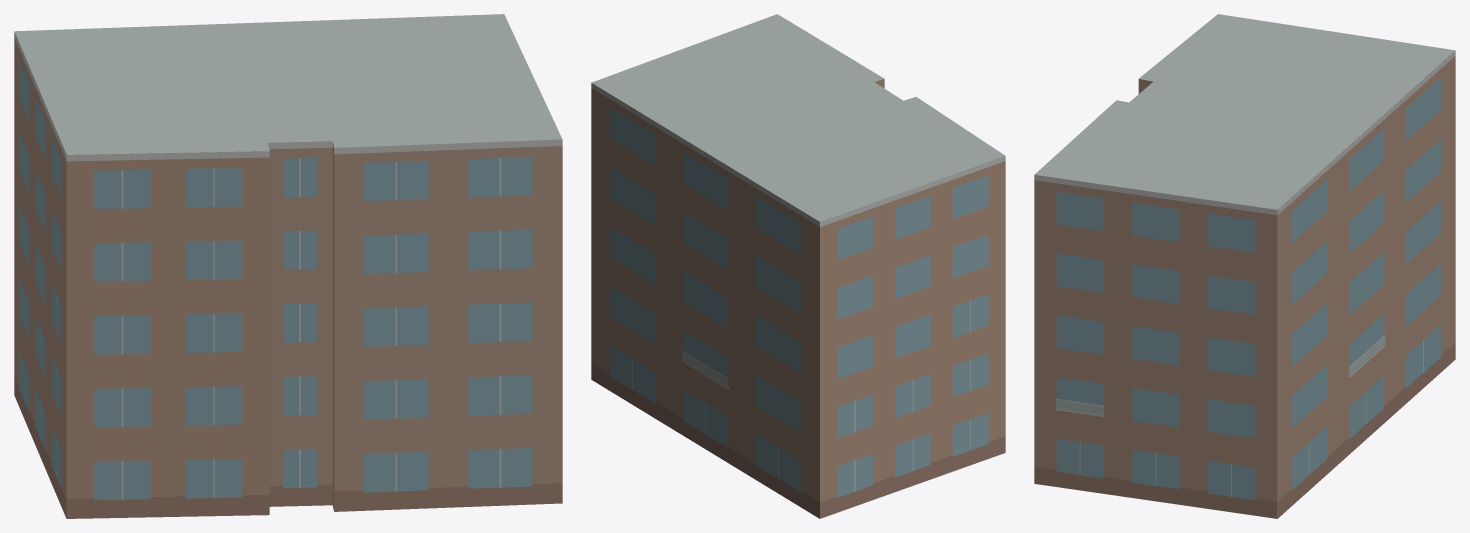
Rendered from survey-upis-32664341.glb.
3 renders of one model, left to right at view 1: azimuth 30°, elevation 25°; view 2: azimuth 150°, elevation 25°; view 3: azimuth 270°, elevation 25°, orthographic. The views are drawn at different scales.
Parts seen in each view (by area): view 1: survey-upis-32664341.tmp; view 2: survey-upis-32664341.tmp; view 3: survey-upis-32664341.tmp.
Part boxes in pixels (<box>): survey-upis-32664341.tmp: <box>14,14,562,518</box>; survey-upis-32664341.tmp: <box>591,14,1005,518</box>; survey-upis-32664341.tmp: <box>1034,14,1455,518</box>.
Bounding box in the file's own units: 18.9 × 13.9 × 17.18.
